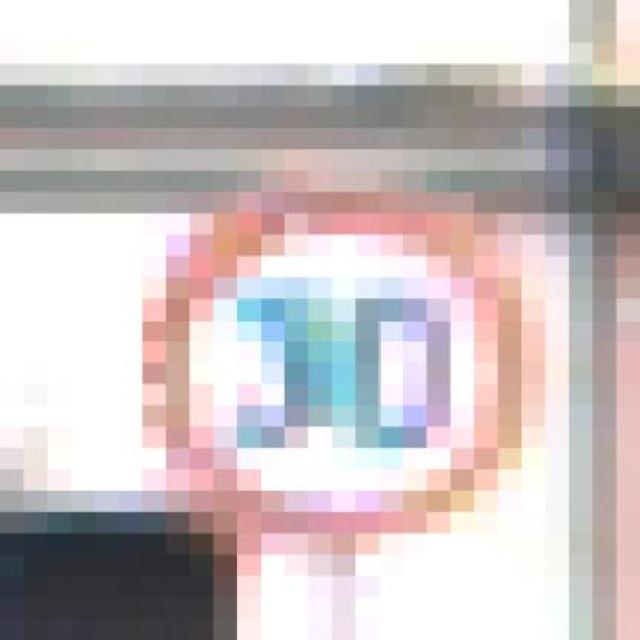Speed Limit 30 KMPh: (118, 149, 570, 576)
